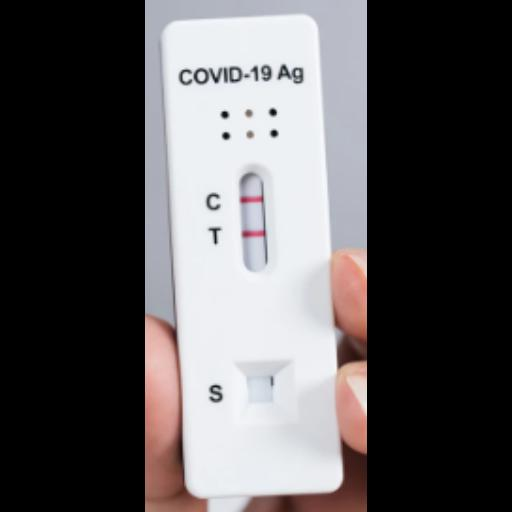Pos: (163, 14, 344, 500)
